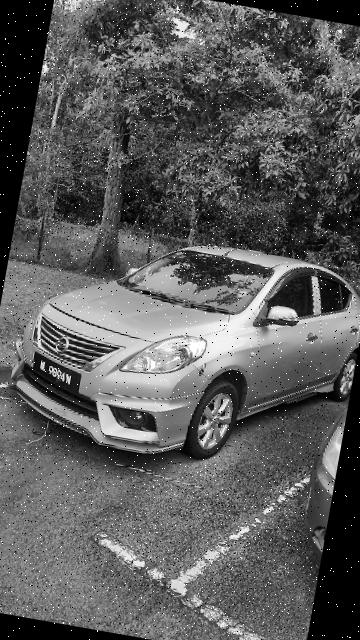License_Plate: (24, 347, 91, 400)
car: (1, 213, 360, 504)
